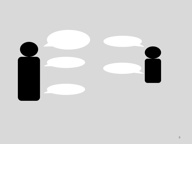left_speech: (41, 26, 92, 50), (42, 80, 87, 97), (42, 54, 86, 70)
right_speech: (99, 56, 145, 79), (100, 33, 145, 48)
